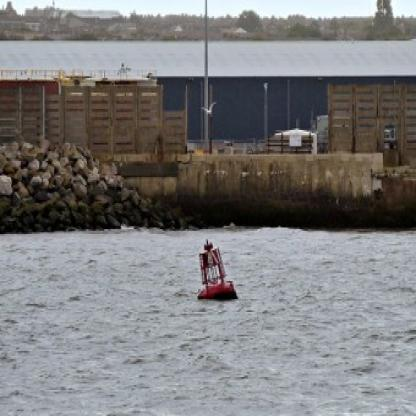buoy: (192, 232, 237, 304)
